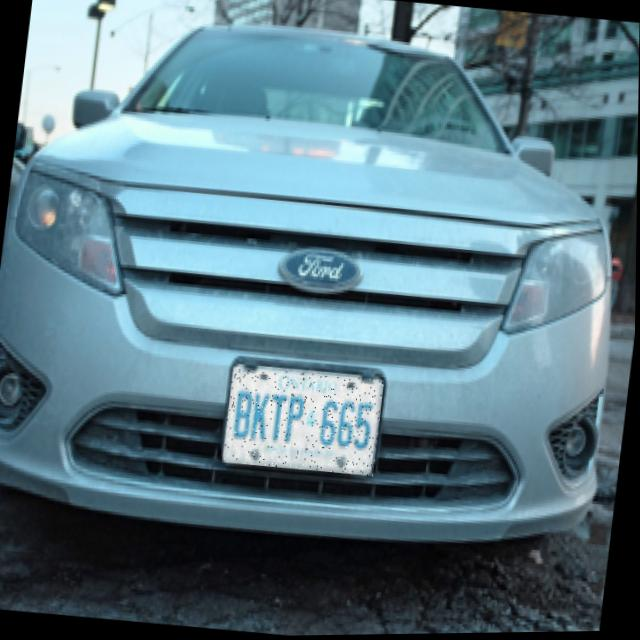license_plate: (223, 365, 385, 478)
